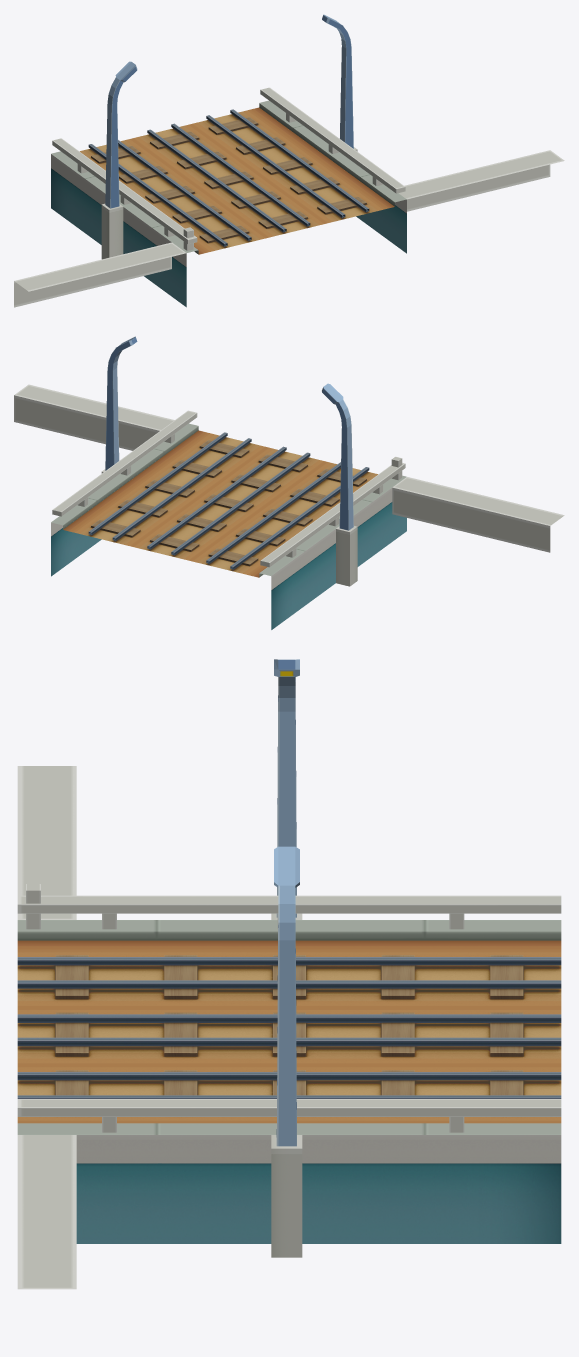
File: Bridge01.FBX
The picture shows the model from 3 angles, top to bottom: view 1: azimuth 30°, elevation 25°; view 2: azimuth 150°, elevation 25°; view 3: azimuth 270°, elevation 25°; orthographic projection. The views are drawn at different scales.
Visible parts, largest first — view 1: Side (×2), Rail; view 2: Side (×2), Rail; view 3: Side (×2), Rail.
Part boxes in pixels (x1,y1,x2,y2): Side (×2): [14, 14, 564, 307]; Rail: [80, 107, 394, 254]; Side (×2): [14, 336, 564, 629]; Rail: [63, 430, 377, 577]; Side (×2): [17, 659, 561, 1289]; Rail: [17, 940, 561, 1123].
Size of the model in its own units: 1823 by 623 by 800.
